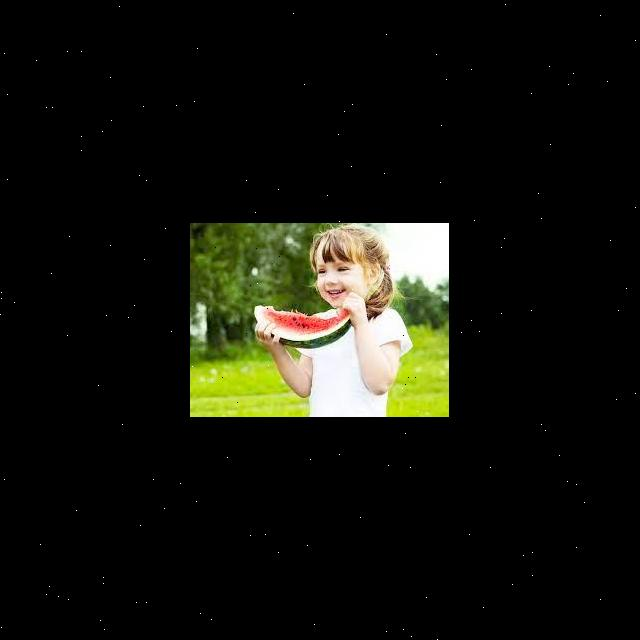watermelon: (255, 306, 352, 348)
